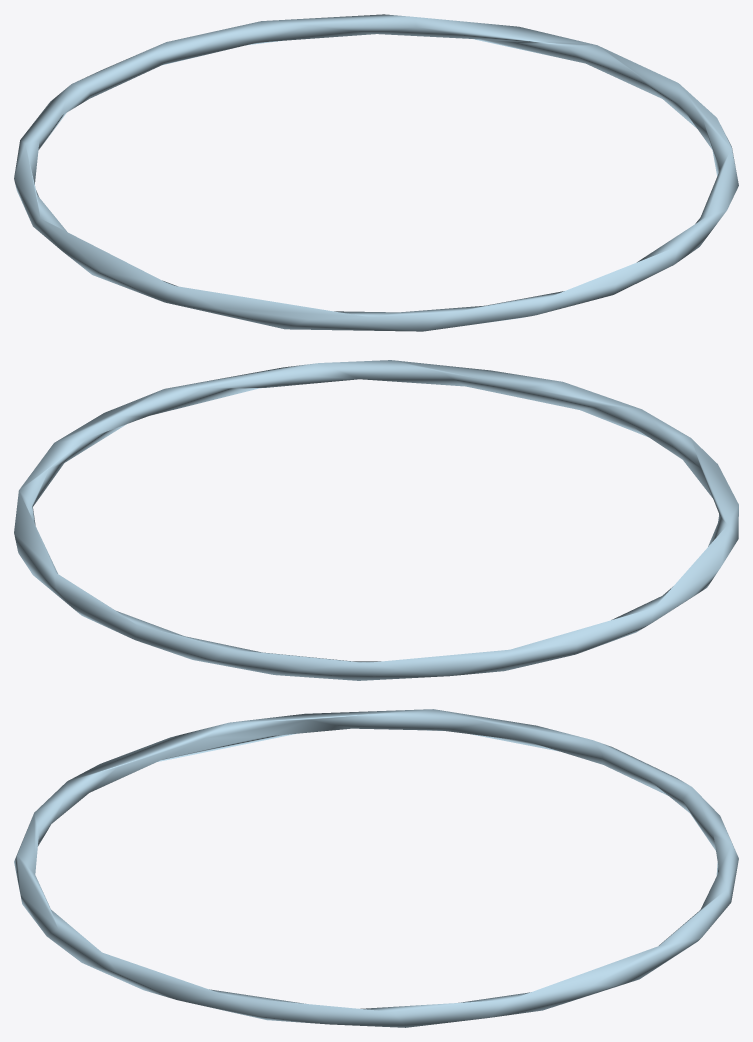
Rendered from teleport.fbx.
3 views of the same model, one above another, from view 1: azimuth 30°, elevation 25°; view 2: azimuth 150°, elevation 25°; view 3: azimuth 270°, elevation 25° (orthographic).
Visible parts, largest first — view 1: teleport_destination; view 2: teleport_destination; view 3: teleport_destination.
Part boxes in pixels (left/top/right/bottom): teleport_destination: left=14, top=14, right=738, bottom=331; teleport_destination: left=14, top=360, right=738, bottom=680; teleport_destination: left=14, top=709, right=738, bottom=1027.
Bounding box in the file's own units: 99.72 × 3.01 × 100.
